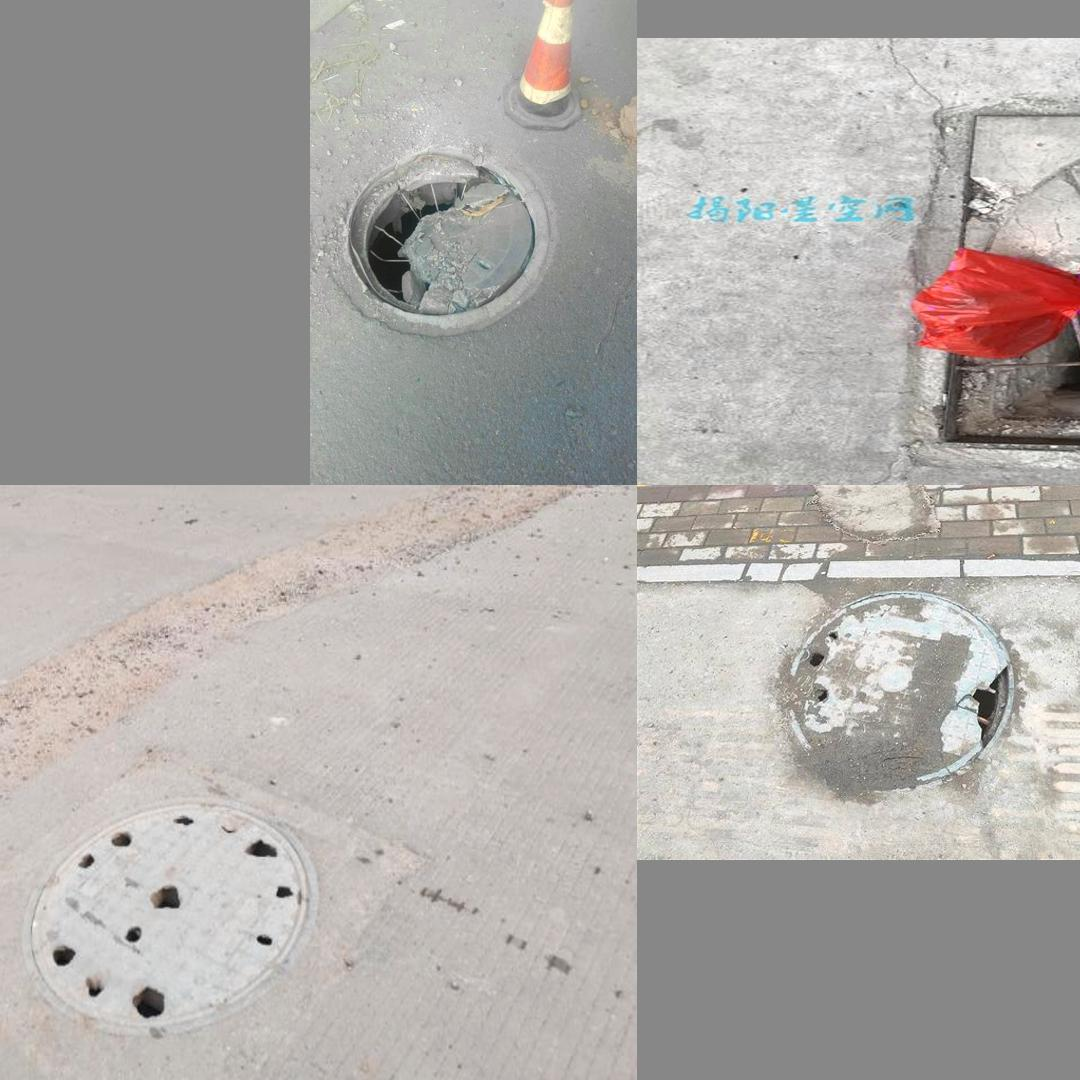broke: (841, 79, 1080, 485), (22, 797, 316, 1028), (767, 585, 1027, 800), (320, 130, 558, 331)
